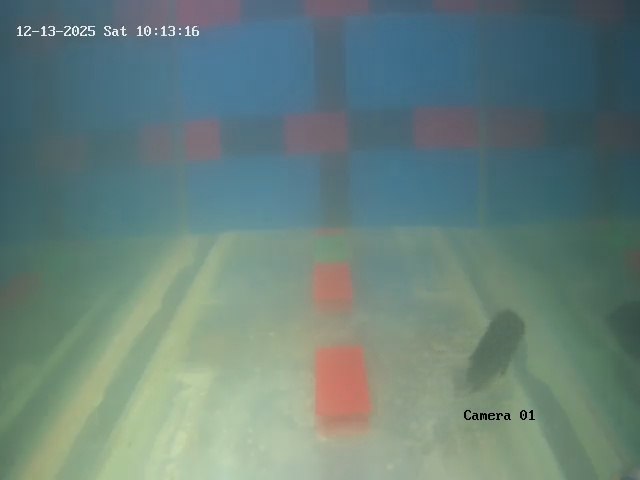fish: (461, 303, 530, 396)
